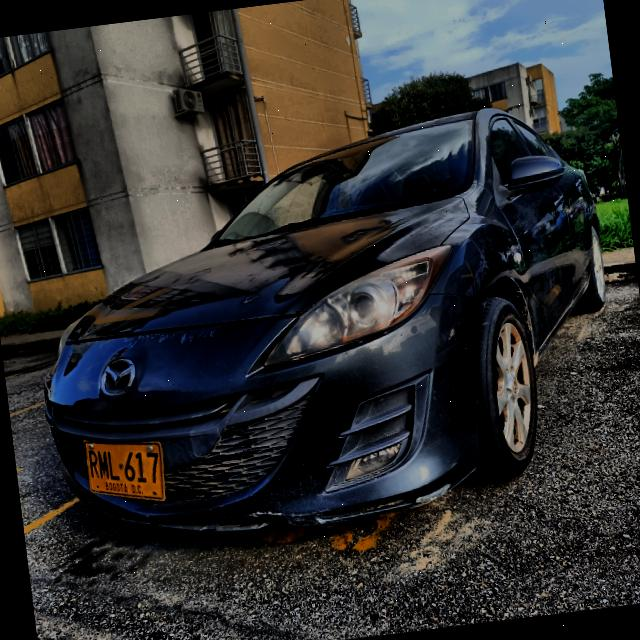1: (135, 451, 148, 483)
6: (123, 451, 136, 482)
7: (146, 451, 159, 483)
L: (107, 450, 121, 481)
M: (96, 450, 110, 480)
R: (87, 449, 100, 479)
